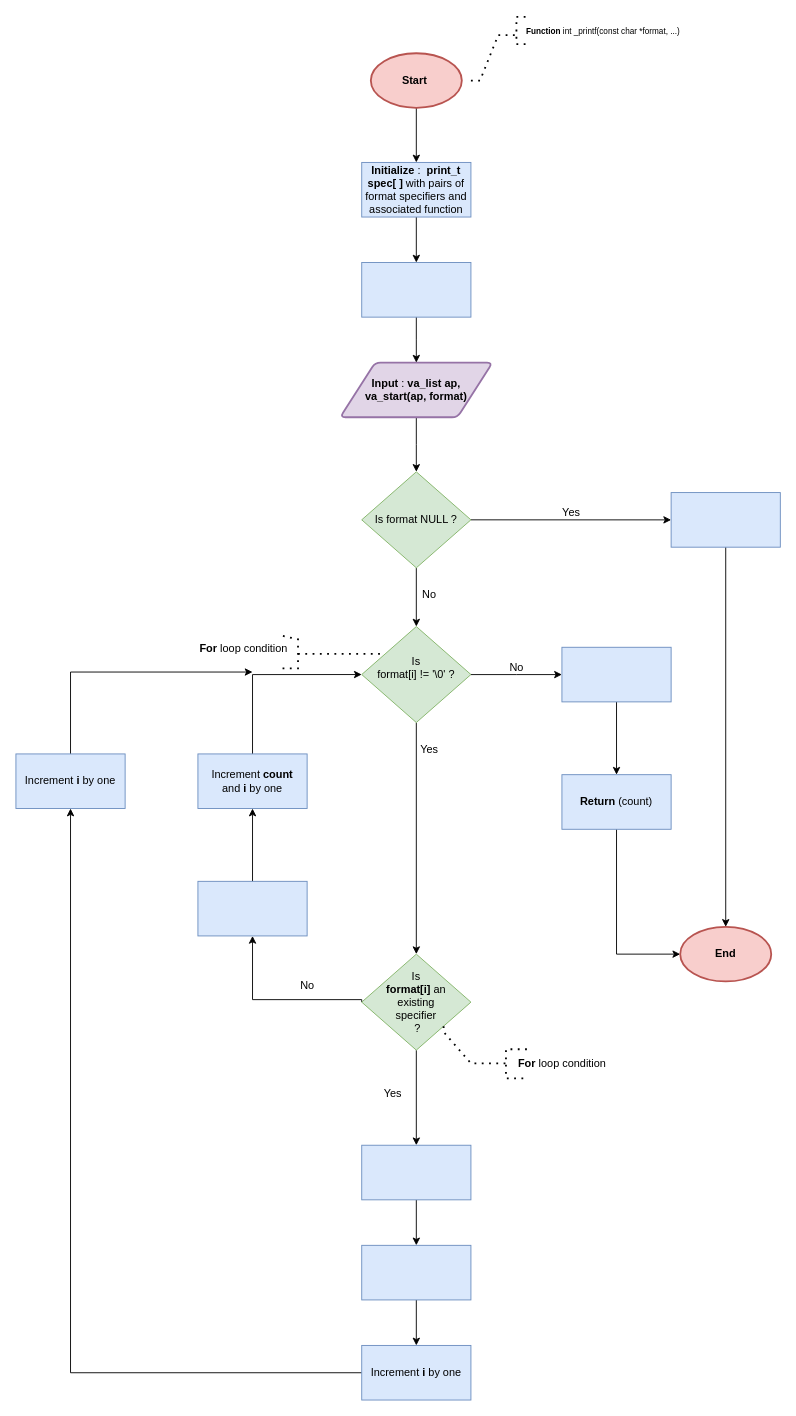
The diagram is 796 pixels wide and 1416 high, and some of its shapes have lost their labels. The shapes that lost their labels are listed below. From the top down, each one's box as (x1, y1, x2, y2) in pixels, then its label:
(361, 262, 471, 317): Initialize : i , j , count , all equal to 0
(670, 492, 780, 547): Return (-1)
(561, 646, 671, 702): va_end(ap)
(197, 880, 307, 936): Write format[i] to stdout
(361, 1144, 471, 1200): Call the associated function to write to stdout
(361, 1244, 471, 1300): Increment count by the number of characters written
